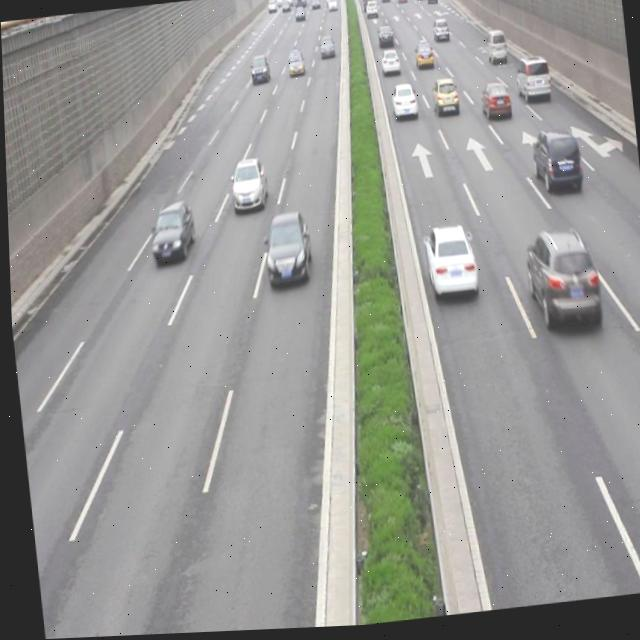car: (519, 232, 599, 339), (419, 225, 476, 308), (259, 216, 311, 294), (527, 131, 579, 202), (146, 203, 194, 266), (228, 160, 265, 214), (512, 59, 550, 104), (477, 83, 509, 129), (387, 84, 417, 125), (429, 79, 457, 122)
